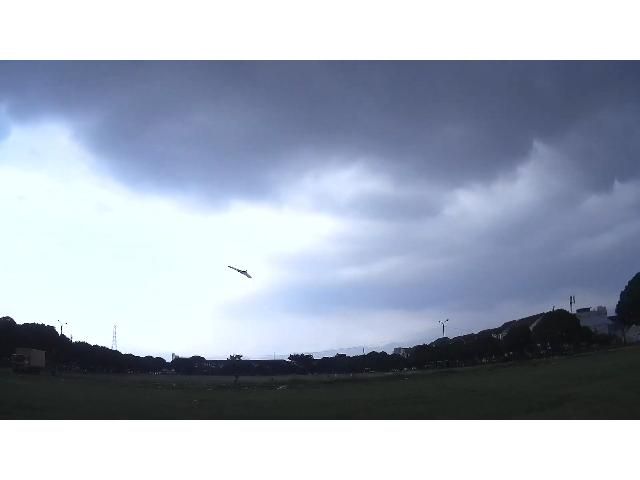Anti-Drone: (228, 266, 252, 278)
